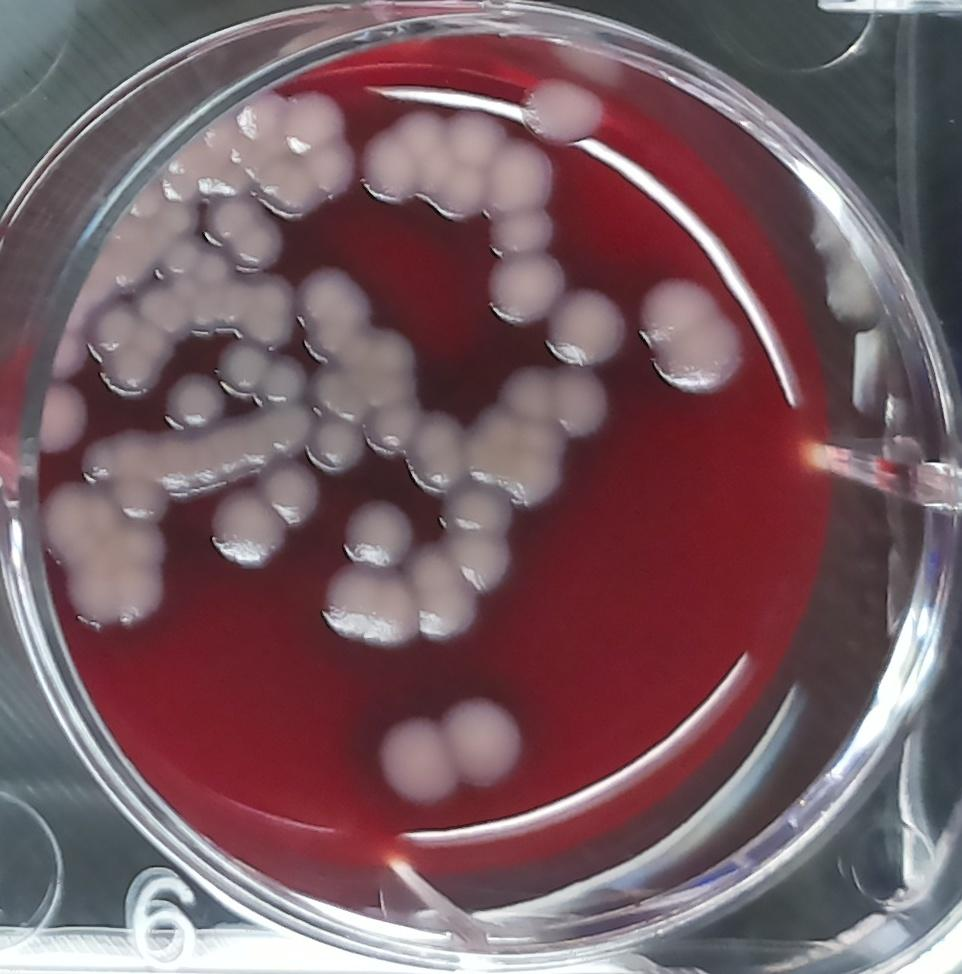bcereus: (473, 360, 612, 509), (410, 487, 514, 648), (636, 269, 750, 400), (311, 565, 424, 655), (439, 692, 534, 793), (86, 299, 178, 400), (375, 713, 467, 813), (295, 260, 376, 366), (205, 481, 288, 572), (545, 286, 632, 370), (519, 73, 610, 152), (481, 250, 570, 329), (200, 197, 284, 272), (403, 408, 473, 495), (339, 494, 417, 569), (157, 368, 234, 438), (27, 376, 88, 458), (260, 462, 326, 530), (304, 414, 368, 477), (213, 341, 274, 398), (257, 349, 311, 405)
